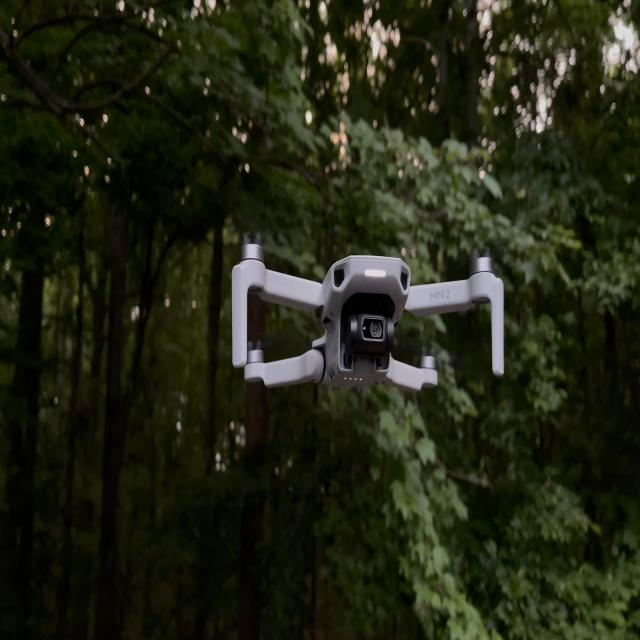Drone: (231, 232, 508, 412)
